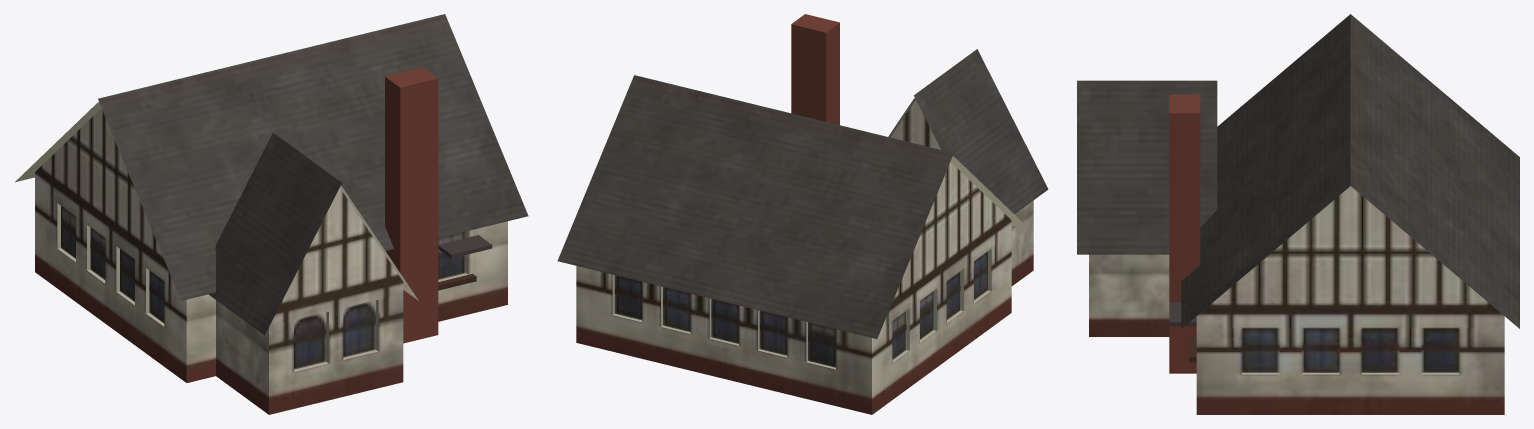
Rendered from seattle_house_c.glb.
The picture shows the model from 3 angles, left to right: view 1: azimuth 30°, elevation 25°; view 2: azimuth 150°, elevation 25°; view 3: azimuth 270°, elevation 25°; orthographic projection. The views are drawn at different scales.
Parts seen in each view (by area): view 1: seattle_house_c; view 2: seattle_house_c; view 3: seattle_house_c.
Part boxes in pixels (<box>): seattle_house_c: <box>15,14,528,414</box>; seattle_house_c: <box>557,14,1048,414</box>; seattle_house_c: <box>1077,14,1519,414</box>.
Bounding box in the file's own units: 11.9 × 8.4 × 12.95.
Materials: 1 (1 with a texture image).
